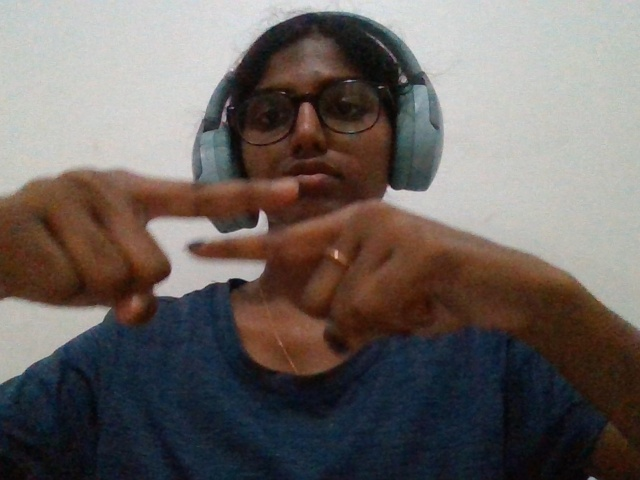Sign: (3, 130, 538, 405)
